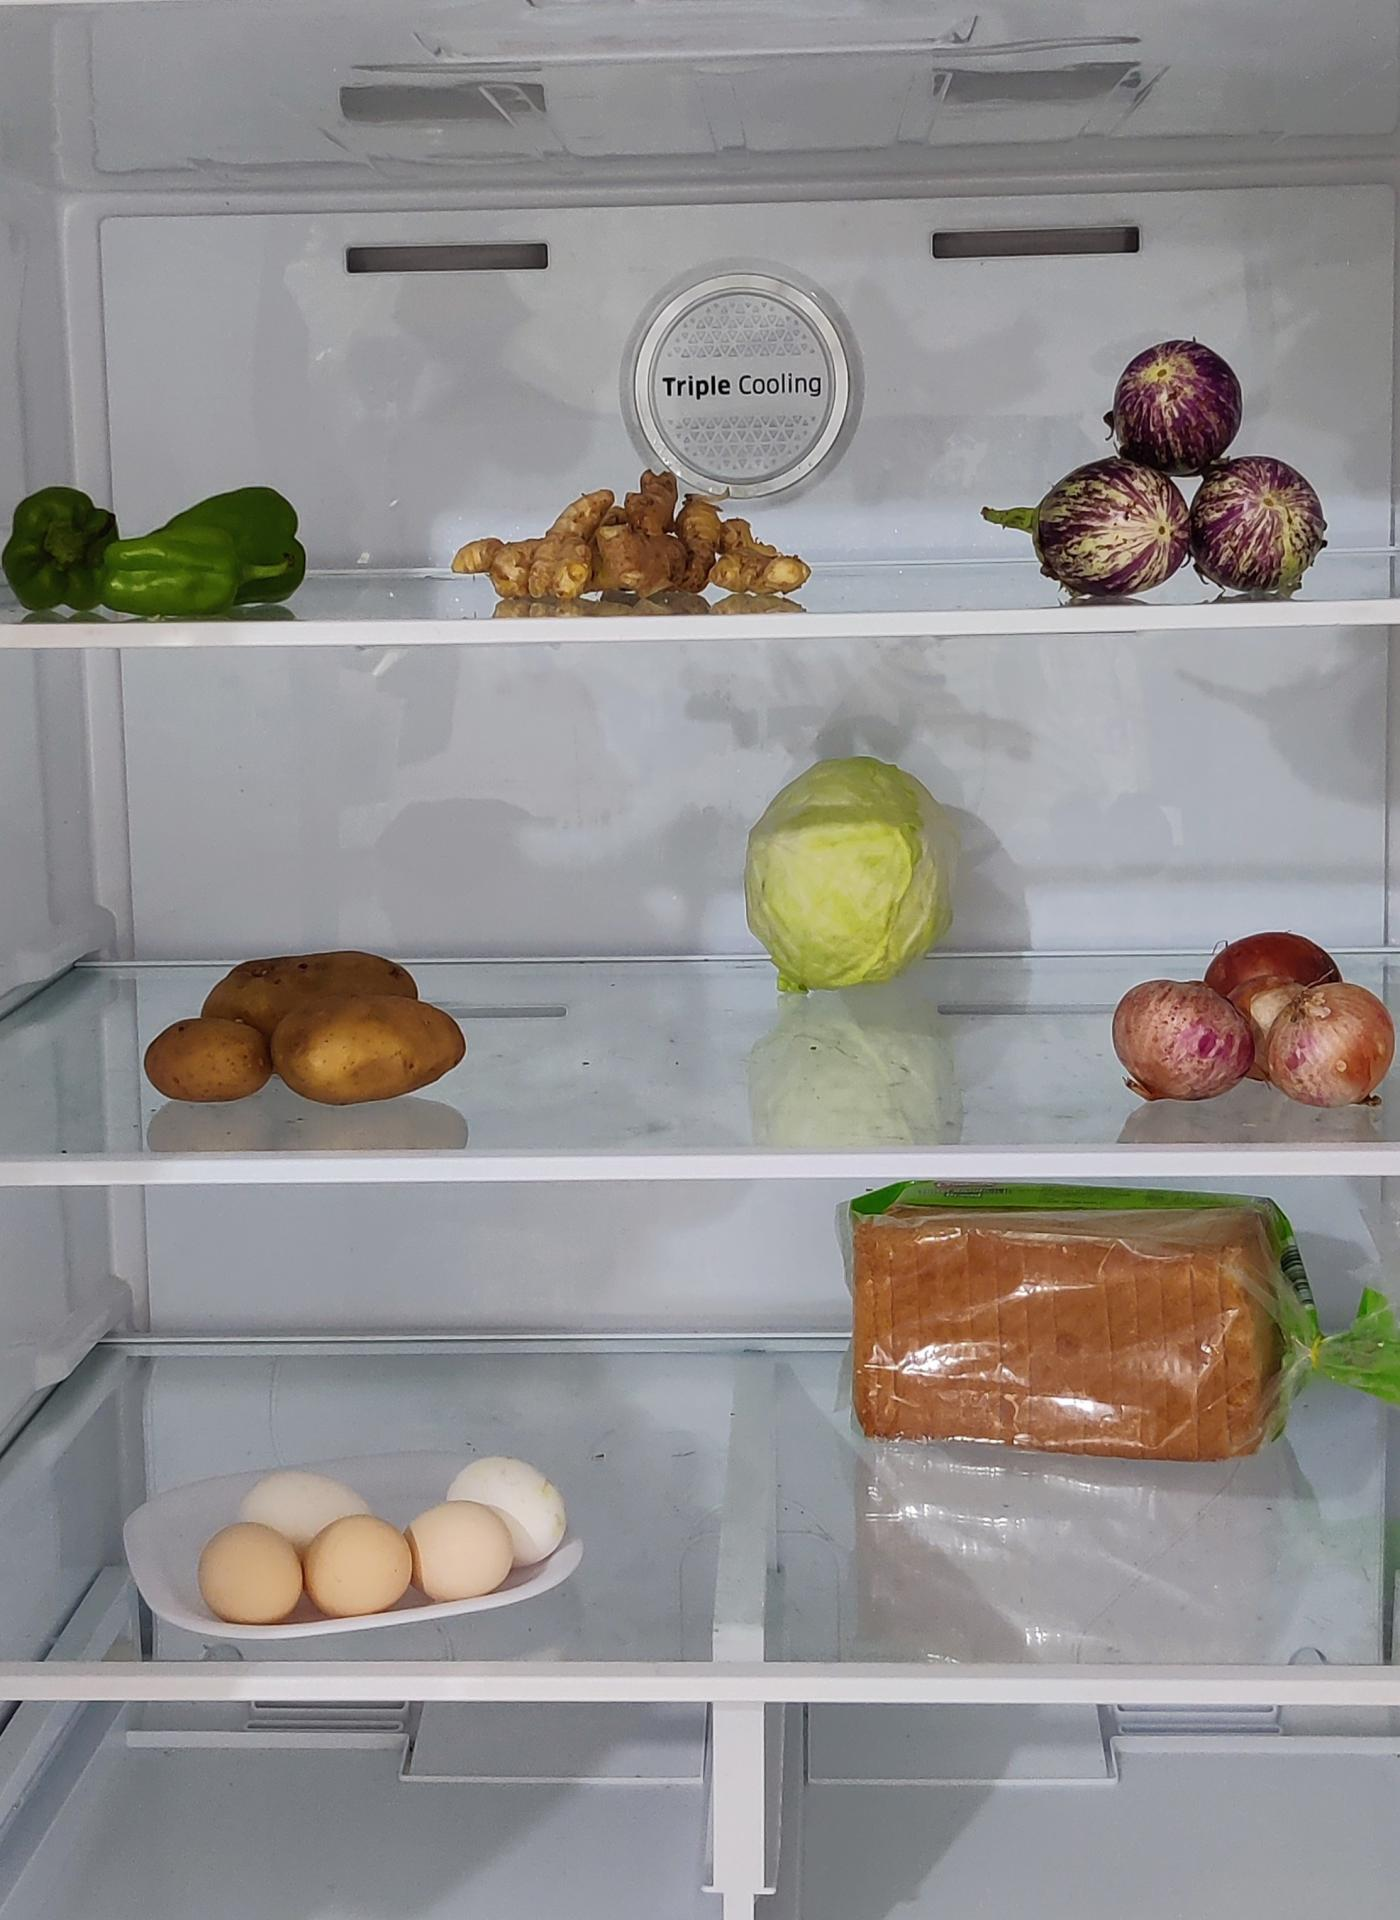bread: (841, 1181, 1315, 1468)
brinjal: (1021, 347, 1319, 592)
cabbage: (740, 753, 956, 987)
capsicum: (4, 484, 319, 631)
egg: (198, 1470, 577, 1638)
ginger: (449, 467, 814, 604)
onion: (1114, 915, 1391, 1131)
potato: (143, 948, 468, 1109)
